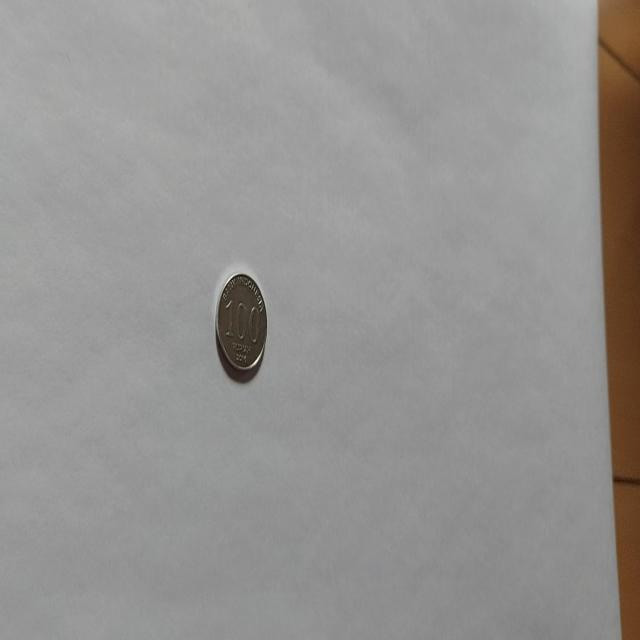seratus rupiah: (215, 271, 268, 374)
